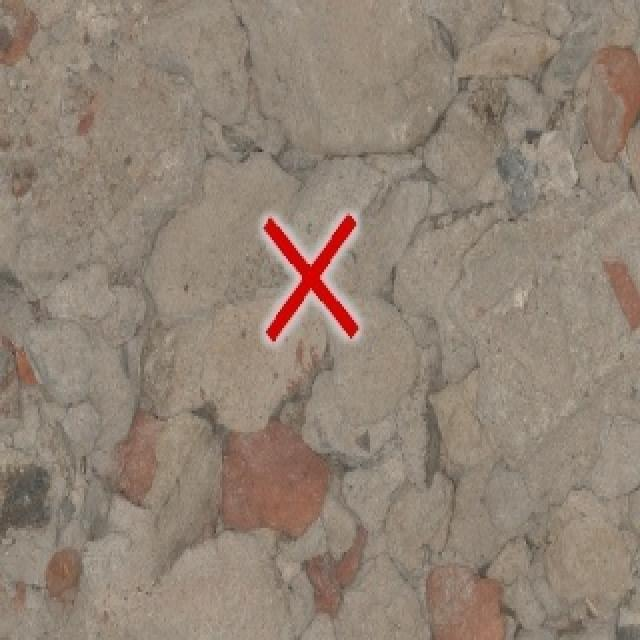x_marker: (263, 215, 357, 340)
